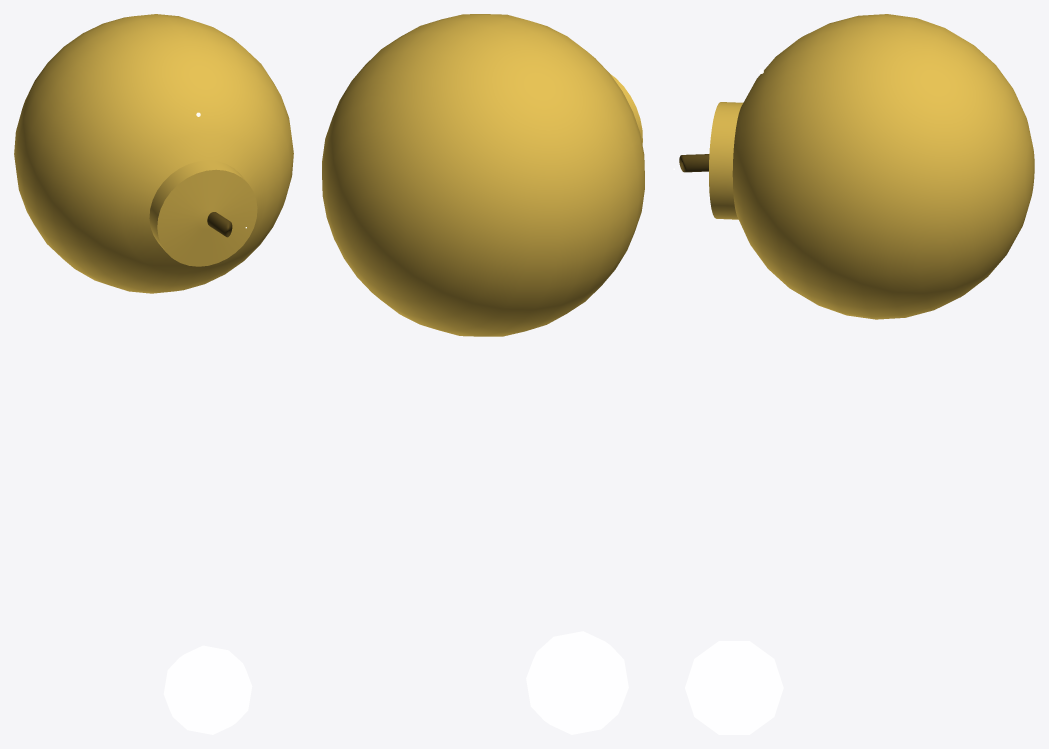
Rendered from bomba2.glb.
3 views of the same model, side by side, from view 1: azimuth 30°, elevation 25°; view 2: azimuth 150°, elevation 25°; view 3: azimuth 270°, elevation 25° (orthographic). The views are drawn at different scales.
Parts seen in each view (by area): view 1: Sphere, Icosphere; view 2: Sphere, Icosphere; view 3: Sphere, Icosphere.
Boxes of the visible parts, x1,y1,x2,y2 form: Sphere: (14,14,293,293); Icosphere: (163,645,252,734); Sphere: (322,14,644,336); Icosphere: (526,631,628,734); Sphere: (709,14,1034,319); Icosphere: (685,641,783,734).
Bounding box in the file's own units: 1.9 × 4.9 × 2.25.
